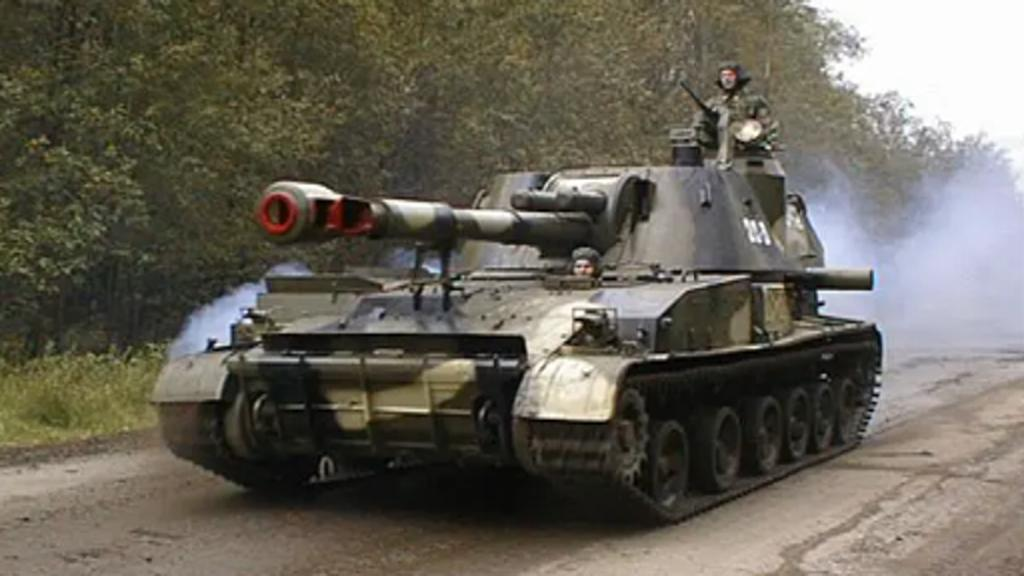ART: (150, 128, 888, 540)
